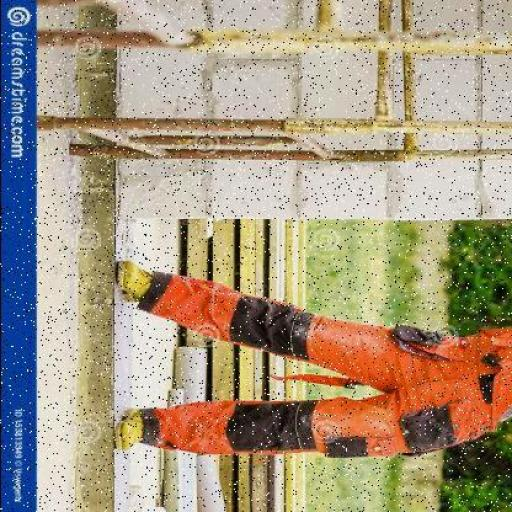safety_shoe: (110, 264, 160, 307), (108, 404, 146, 458)
